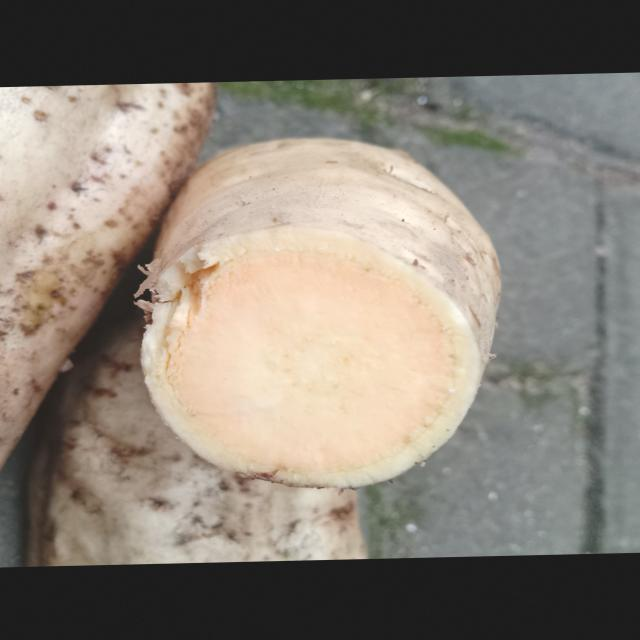Healthy Sweet Potato: (140, 226, 485, 488)
